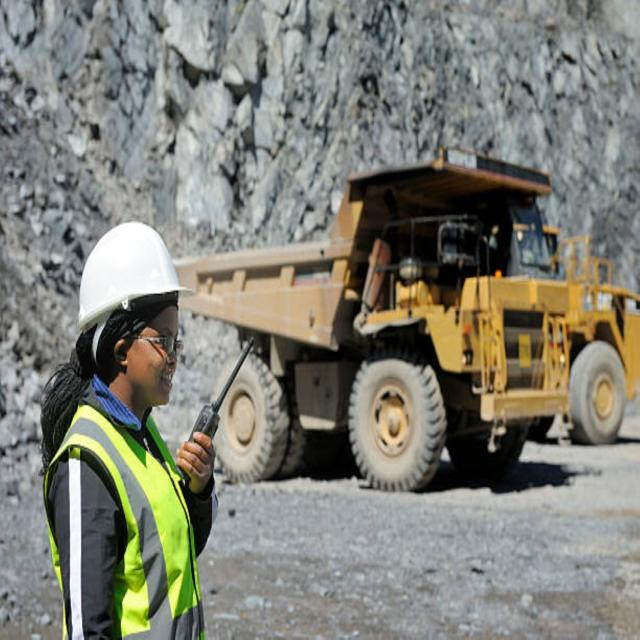dump_truck: (178, 136, 599, 528)
